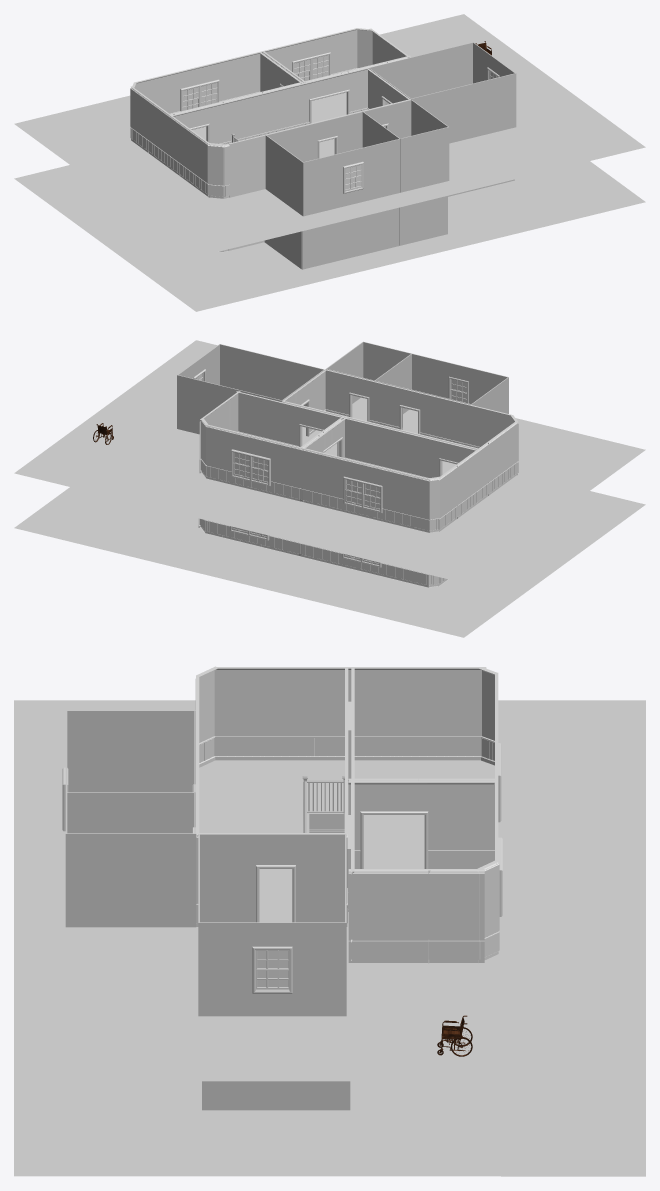
Rendered from Bedridden_House_1.fbx.
The picture shows the model from 3 angles, top to bottom: view 1: azimuth 30°, elevation 25°; view 2: azimuth 150°, elevation 25°; view 3: azimuth 270°, elevation 25°; orthographic projection. The views are drawn at different scales.
Visible parts, largest first — view 1: GROUND, GROUND.002, Wall.012, Cube.010, Cube.012, Cube.017, Cube.002, Cube.060, Cube.011, Cube.009, Cube.003, Cube.052 (+4 smaller); view 2: GROUND, Wall.012, GROUND.002, Cube.012, Wall.001, Cube.010, Cube.002, Cube.060, Cube.062, Cube.013, Cube.009, Cube.061 (+2 smaller); view 3: GROUND, GROUND.002, Wall.012, Cube.062, Cube.013, Cube.009, Cube.008, Cube.061, Cube.022, wheelchair_1, SM_Stairs_11.003, Plane.004 (+2 smaller).
Part boxes in pixels (bbox=[...]): GROUND: bbox=[14, 14, 645, 256]; GROUND.002: bbox=[14, 161, 645, 311]; Wall.012: bbox=[130, 28, 410, 198]; Cube.010: bbox=[303, 138, 400, 216]; Cube.012: bbox=[411, 73, 516, 143]; Cube.017: bbox=[302, 207, 399, 269]; Cube.002: bbox=[369, 42, 473, 104]; Cube.060: bbox=[400, 127, 449, 192]; Cube.011: bbox=[266, 112, 362, 161]; Cube.009: bbox=[265, 135, 302, 215]; Cube.003: bbox=[399, 196, 447, 245]; Cube.052: bbox=[363, 100, 411, 138]; GROUND: bbox=[14, 340, 645, 582]; Wall.012: bbox=[199, 369, 518, 532]; GROUND.002: bbox=[14, 487, 645, 637]; Cube.012: bbox=[219, 344, 324, 406]; Wall.001: bbox=[198, 518, 448, 587]; Cube.010: bbox=[411, 353, 508, 403]; Cube.002: bbox=[177, 375, 281, 434]; Cube.060: bbox=[363, 341, 411, 380]; Cube.062: bbox=[325, 342, 363, 410]; Cube.013: bbox=[178, 344, 219, 384]; Cube.009: bbox=[471, 377, 508, 413]; Cube.061: bbox=[374, 353, 411, 413]; GROUND: bbox=[14, 700, 645, 1081]; GROUND.002: bbox=[14, 1081, 645, 1176]; Wall.012: bbox=[195, 666, 499, 963]; Cube.062: bbox=[67, 833, 196, 927]; Cube.013: bbox=[199, 922, 344, 1016]; Cube.009: bbox=[66, 710, 195, 792]; Cube.008: bbox=[199, 834, 345, 922]; Cube.061: bbox=[67, 792, 195, 833]; Cube.022: bbox=[203, 1081, 348, 1110]; wheelchair_1: bbox=[437, 1015, 472, 1056]; SM_Stairs_11.003: bbox=[302, 776, 344, 813]; Plane.004: bbox=[360, 811, 428, 868].
Size of the model in its own units: 2790 by 643 by 1956.
